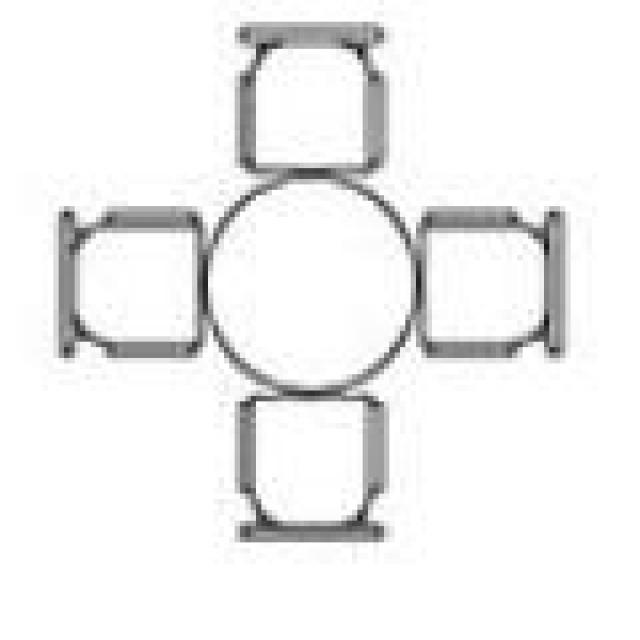table: (48, 16, 571, 542)
